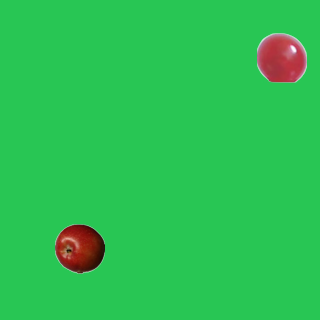Apple Braeburn: (54, 223, 104, 273)
Redcurrant: (256, 32, 306, 82)
